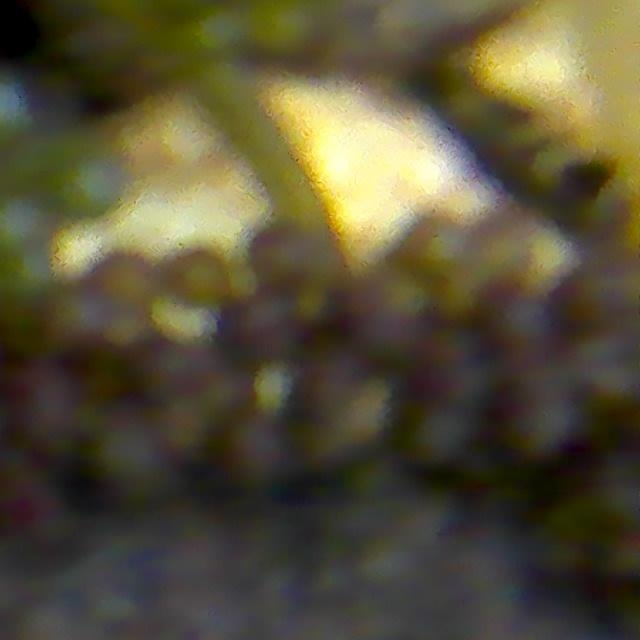SeaGrape: (247, 207, 315, 305), (493, 380, 571, 464), (395, 402, 467, 486), (218, 415, 294, 491), (544, 276, 617, 347), (122, 335, 198, 403), (57, 151, 128, 220), (44, 337, 120, 400), (223, 305, 301, 366), (13, 401, 84, 463), (408, 207, 464, 285), (476, 278, 537, 349), (96, 432, 159, 500), (173, 247, 233, 309), (0, 191, 51, 258), (95, 249, 151, 307), (154, 398, 200, 454)
